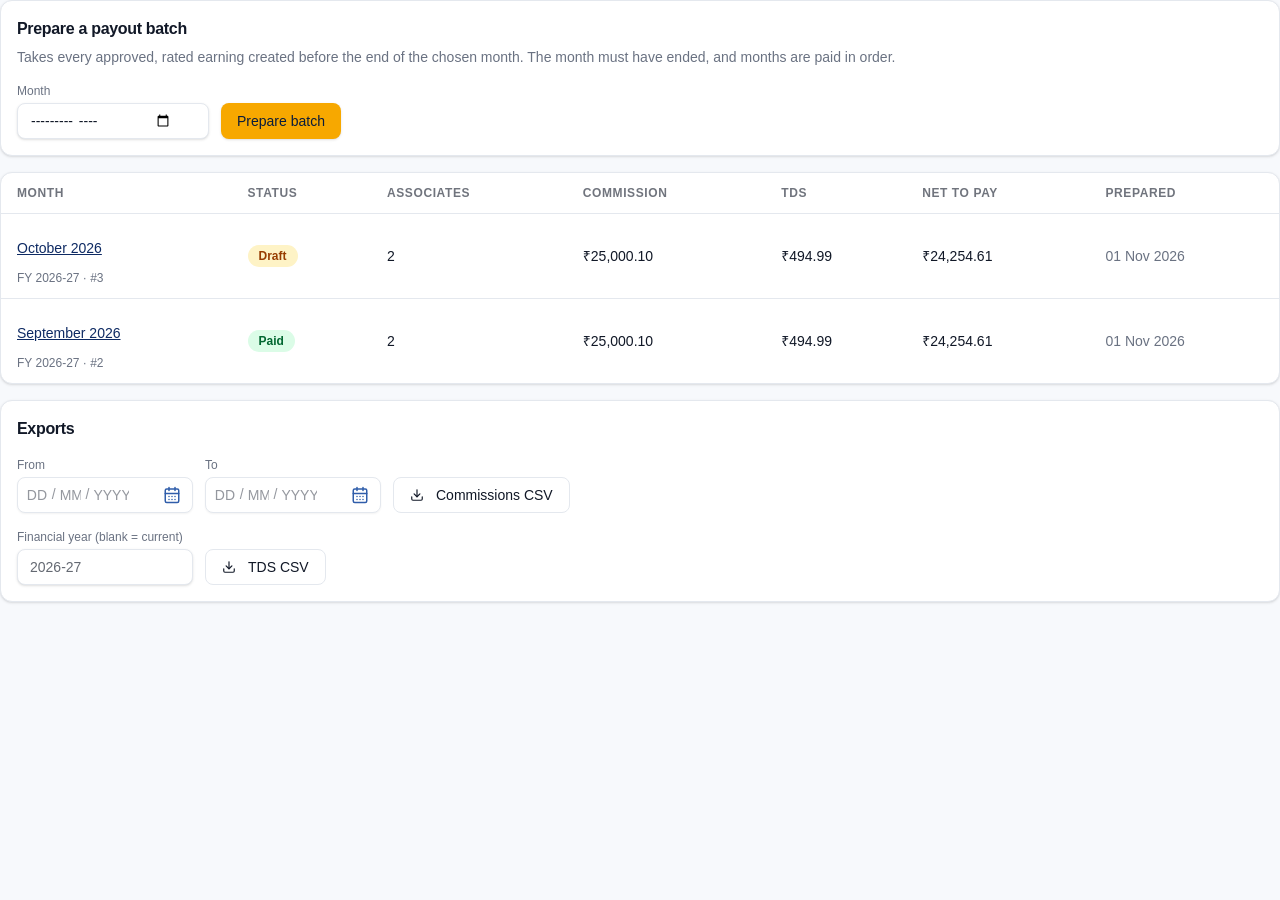
Test: Payout batches (E9) › rejects a malformed financial year before asking the server
In the field labelled "Financial year (blank = current)": (105, 566) [17,548,193,584], type "2026"
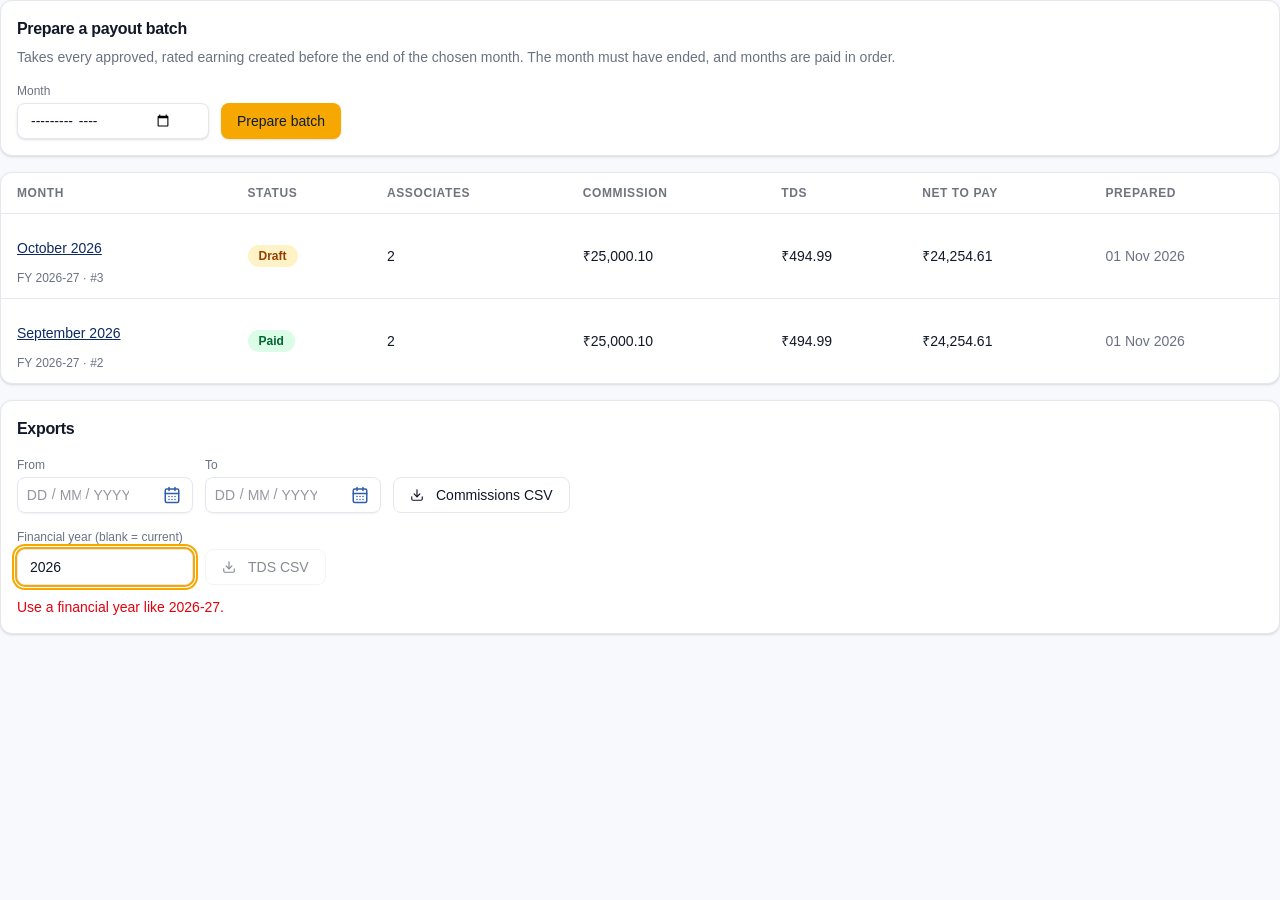
Expected: the button "TDS CSV" is disabled, [205,548,326,584]
Expected: the text "Use a financial year like 2026-27." is shown, [17,598,224,614]
